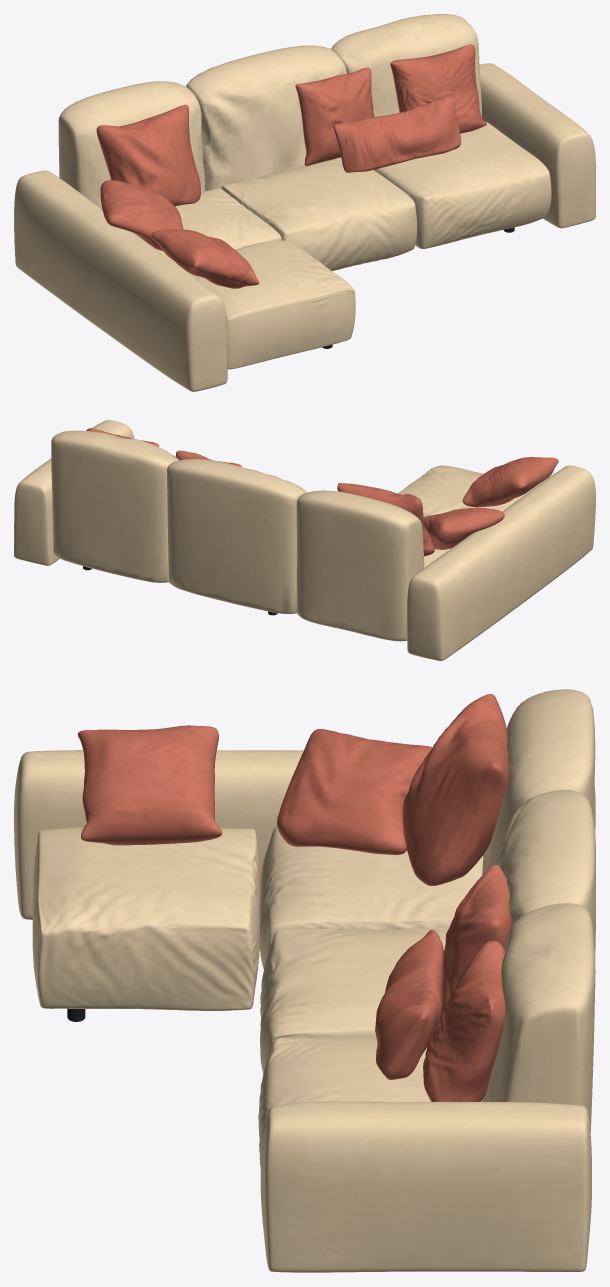
Rendered from sunday-sectional.glb.
3 renders of one model, top to bottom at view 1: azimuth 30°, elevation 25°; view 2: azimuth 150°, elevation 25°; view 3: azimuth 270°, elevation 25°, orthographic. The views are drawn at different scales.
Parts seen in each view (by area): view 1: 4 L.015, Cube.001, 4 L.024, 4 L.012, 4 L.022, 4 L.009, Cube.002, 4 L.018, Cube, 4 L.001, 4 L.020, 4 L.021 (+3 smaller); view 2: 4 L.015, Cube.001, Cube.002, Cube, 4 L.009, 4 L.010, 4 L.022, 4 L.019, 4 L.018; view 3: 4 L.009, 4 L.022, Cube, 4 L.010, 4 L.016, 4 L.024, 4 L.018, 4 L.019, 4 L.015, Cube.001, Cube.002, 4 L.012 (+3 smaller).
Part boxes in pixels (left/top/right/bottom): 4 L.015: left=14, top=170, right=227, bottom=391; Cube.001: left=186, top=45, right=346, bottom=190; 4 L.024: left=221, top=157, right=417, bottom=271; 4 L.012: left=374, top=122, right=551, bottom=248; 4 L.022: left=177, top=240, right=355, bottom=369; 4 L.009: left=479, top=63, right=595, bottom=228; Cube.002: left=58, top=81, right=205, bottom=209; 4 L.018: left=96, top=104, right=200, bottom=206; Cube: left=331, top=14, right=481, bottom=116; 4 L.001: left=333, top=97, right=461, bottom=172; 4 L.020: left=390, top=44, right=486, bottom=133; 4 L.021: left=295, top=67, right=374, bottom=165; 4 L.015: left=407, top=465, right=595, bottom=660; Cube.001: left=167, top=459, right=307, bottom=614; Cube.002: left=296, top=490, right=424, bottom=641; Cube: left=51, top=430, right=179, bottom=582; 4 L.009: left=14, top=420, right=133, bottom=565; 4 L.010: left=462, top=457, right=558, bottom=507; 4 L.022: left=398, top=465, right=535, bottom=517; 4 L.019: left=423, top=507, right=504, bottom=549; 4 L.018: left=337, top=483, right=434, bottom=556; 4 L.009: left=260, top=1101, right=591, bottom=1272; 4 L.022: left=32, top=827, right=260, bottom=1010; Cube: left=481, top=903, right=595, bottom=1132; 4 L.010: left=77, top=725, right=222, bottom=845; 4 L.016: left=259, top=825, right=483, bottom=969; 4 L.024: left=260, top=928, right=448, bottom=1073; 4 L.018: left=402, top=694, right=508, bottom=885; 4 L.019: left=277, top=729, right=432, bottom=854; 4 L.015: left=14, top=750, right=595, bottom=919; Cube.001: left=498, top=790, right=595, bottom=953; Cube.002: left=482, top=689, right=595, bottom=874; 4 L.012: left=258, top=1036, right=481, bottom=1166.
Size of the model in its own units: 2.93 by 0.8977 by 1.85.
Materials: 2 (2 with a texture image).
